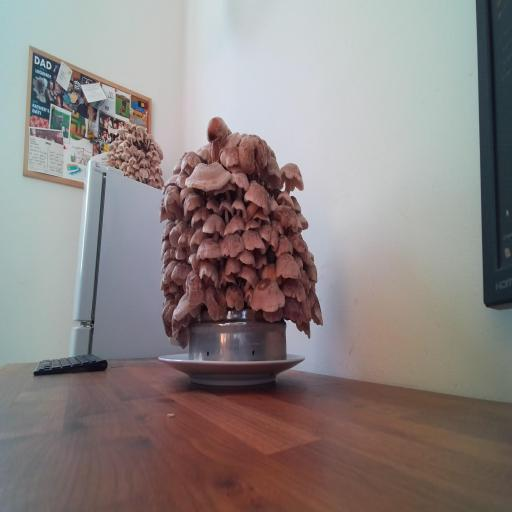Shiitake Mushroom: (195, 108, 235, 167), (197, 275, 234, 326), (253, 153, 292, 200), (184, 160, 232, 198), (177, 265, 211, 312), (266, 198, 308, 235), (237, 131, 272, 175), (249, 219, 289, 256), (274, 271, 315, 307), (172, 142, 209, 180), (183, 199, 220, 236), (251, 276, 286, 315), (164, 288, 201, 324), (225, 160, 255, 202), (243, 177, 272, 220), (174, 185, 210, 219), (149, 197, 182, 233), (167, 252, 196, 292), (200, 206, 229, 245), (207, 173, 242, 205), (182, 220, 214, 255), (163, 212, 191, 251), (235, 256, 262, 296), (284, 222, 310, 260), (172, 220, 201, 254), (248, 204, 277, 235), (226, 192, 254, 223), (196, 234, 223, 266), (213, 192, 239, 224), (306, 287, 325, 330), (280, 160, 304, 193), (218, 231, 247, 258), (238, 227, 269, 252), (281, 294, 306, 325), (227, 209, 250, 240), (159, 298, 176, 338), (173, 179, 198, 206), (173, 320, 194, 352), (218, 142, 241, 171), (156, 242, 182, 267), (276, 252, 300, 279), (164, 185, 183, 219), (156, 215, 179, 243), (160, 254, 178, 289), (294, 266, 316, 294), (199, 259, 220, 288), (225, 284, 244, 311), (168, 154, 189, 178), (220, 130, 245, 149), (154, 235, 173, 260), (235, 247, 259, 266), (159, 171, 183, 190), (261, 306, 286, 324), (294, 208, 312, 233), (217, 266, 236, 289), (224, 255, 242, 279), (287, 192, 305, 216), (186, 250, 202, 277), (275, 233, 293, 257), (196, 142, 213, 167), (275, 189, 296, 209), (202, 195, 224, 214), (163, 278, 183, 298), (290, 248, 307, 271), (300, 295, 313, 325), (187, 301, 206, 321), (221, 219, 243, 236), (300, 241, 314, 266), (174, 168, 189, 191), (296, 320, 311, 339), (260, 263, 277, 279), (243, 284, 254, 308), (254, 251, 268, 269), (305, 263, 318, 282), (245, 219, 261, 231), (268, 197, 279, 213), (175, 247, 187, 260), (159, 268, 166, 290)
